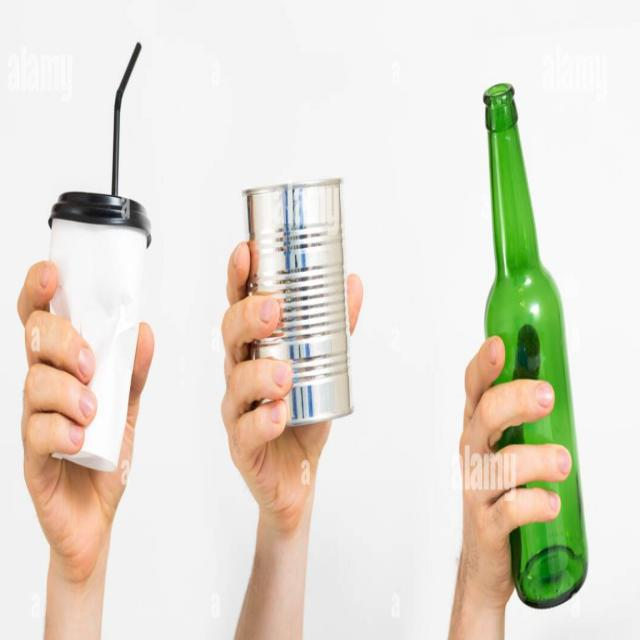dry: (37, 150, 158, 481), (240, 162, 355, 454)
